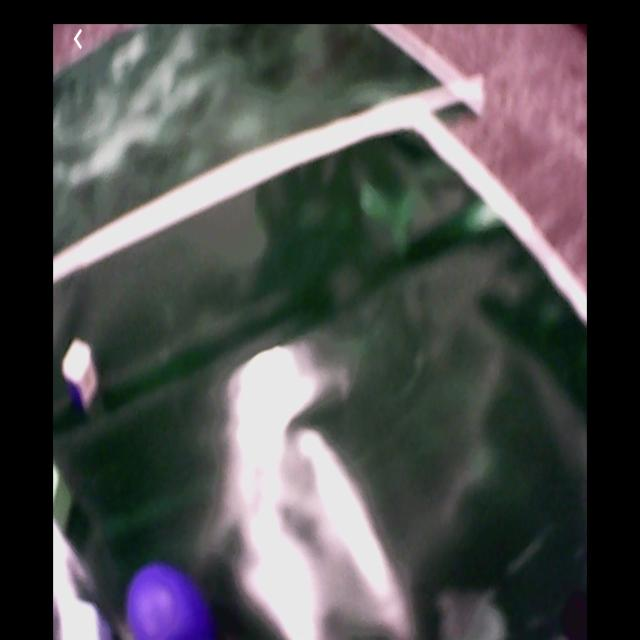ball: (128, 564, 208, 640)
